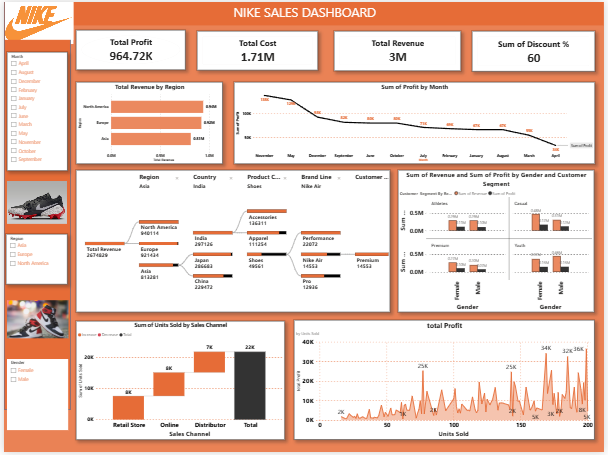

What the dashboard file says about the page in this screenshot:
{"tool":"powerbi","page":{"name":"Page 1","canvas":[2000,1500],"ordinal":0},"visuals":[{"type":"textbox","box":[8,0,1992,77.5],"z":0},{"type":"cardVisual","fields":{"Data":["Nike Sales Data.total Profit"]},"box":[239.2,93,365.4,132.9],"z":1000},{"type":"cardVisual","fields":{"Data":["Nike Sales Data.Total Cost"]},"box":[642.3,95.2,403.1,130.7],"z":2000},{"type":"cardVisual","fields":{"Data":["Nike Sales Data.Total Revenue"]},"box":[1100.8,95.2,423,132.9],"z":3000},{"type":"cardVisual","fields":{"Data":["Sum(Nike Sales Data.Discount %)"]},"box":[1559.2,95.2,409.7,135.1],"z":4000},{"type":"barChart","fields":{"Category":["Nike Sales Data.Region"],"Y":["Nike Sales Data.Total Revenue"]},"box":[240,267,489,273],"z":5000},{"type":"lineChart","fields":{"Category":["Nike Sales Data.Month"],"Y":["Sum(Nike Sales Data.Profit)"]},"box":[765,267,1203,273],"z":6000},{"type":"waterfallChart","fields":{"Category":["Nike Sales Data.Sales Channel"],"Y":["Sum(Nike Sales Data.Units Sold)"]},"box":[240,1062,696,396],"z":7000},{"type":"clusteredColumnChart","fields":{"Category":["Nike Sales Data.Gender"],"Rows":["Nike Sales Data.Customer Segment"],"Y":["Sum(Nike Sales Data.Revenue)","Sum(Nike Sales Data.Profit)"]},"box":[1314,561,654,474],"z":8000},{"type":"decompositionTreeVisual","fields":{"Analyze":["Nike Sales Data.Total Revenue"],"ExplainBy":["Nike Sales Data.Region","Nike Sales Data.Country","Nike Sales Data.Product Category","Nike Sales Data.Brand Line","Nike Sales Data.Customer Segment"]},"box":[240,561,1047,474],"z":9000},{"type":"areaChart","fields":{"Category":["Nike Sales Data.Units Sold"],"Y":["Nike Sales Data.total Profit"]},"box":[966,1059,1002,399],"z":10000},{"type":"image","box":[2.5,0,227.5,140],"z":11000},{"type":"shape","box":[0,0,222.5,1360],"z":12000},{"type":"slicer","fields":{"Values":["Nike Sales Data.Month"]},"box":[8.9,166.1,201.6,396.5],"z":13000},{"type":"slicer","fields":{"Values":["Nike Sales Data.Region"]},"box":[7.5,772.5,205,167.5],"z":14000},{"type":"image","box":[10,940,205,235],"z":15000},{"type":"slicer","fields":{"Values":["Nike Sales Data.Gender"]},"box":[9,1191,204,237],"z":16000},{"type":"image","box":[2,0,228,126],"z":17000},{"type":"image","box":[10,595,200,142.5],"z":18000}]}

Visuals, with their boxes in screenshot pixels (x1, y1, x2, y2), scaled from the page's 2000x1500 canvas onto the 608x455 screenshot:
textbox: locate(2, 0, 607, 24)
cardVisual - Nike Sales Data.total Profit: locate(73, 28, 184, 69)
cardVisual - Nike Sales Data.Total Cost: locate(195, 29, 318, 69)
cardVisual - Nike Sales Data.Total Revenue: locate(335, 29, 463, 69)
cardVisual - Sum(Nike Sales Data.Discount %): locate(474, 29, 599, 70)
barChart - Nike Sales Data.Region x Nike Sales Data.Total Revenue: locate(73, 81, 222, 164)
lineChart - Nike Sales Data.Month x Sum(Nike Sales Data.Profit): locate(233, 81, 598, 164)
waterfallChart - Nike Sales Data.Sales Channel x Sum(Nike Sales Data.Units Sold): locate(73, 322, 285, 442)
clusteredColumnChart - Nike Sales Data.Gender x Nike Sales Data.Customer Segment: locate(399, 170, 598, 314)
decompositionTreeVisual - Nike Sales Data.Total Revenue x Nike Sales Data.Region: locate(73, 170, 391, 314)
areaChart - Nike Sales Data.Units Sold x Nike Sales Data.total Profit: locate(294, 321, 598, 442)
image: locate(1, 0, 70, 42)
shape: locate(0, 0, 68, 413)
slicer - Nike Sales Data.Month: locate(3, 50, 64, 171)
slicer - Nike Sales Data.Region: locate(2, 234, 65, 285)
image: locate(3, 285, 65, 356)
slicer - Nike Sales Data.Gender: locate(3, 361, 65, 433)
image: locate(1, 0, 70, 38)
image: locate(3, 180, 64, 224)
